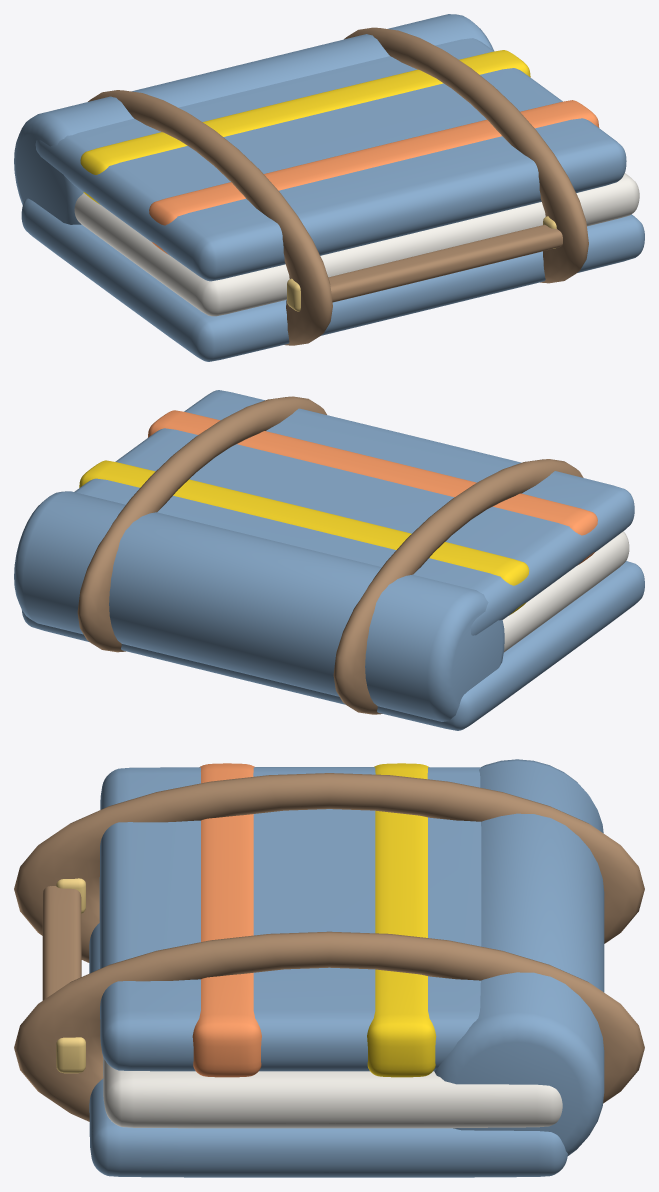
The model's file is SM_Blanket.fbx.
3 renders of one model, top to bottom at view 1: azimuth 30°, elevation 25°; view 2: azimuth 150°, elevation 25°; view 3: azimuth 270°, elevation 25°, orthographic. The views are drawn at different scales.
Visible parts, largest first — view 1: SM_Blanket; view 2: SM_Blanket; view 3: SM_Blanket.
Boxes of the visible parts, x1,y1,x2,y2 form: SM_Blanket: [14, 14, 644, 361]; SM_Blanket: [14, 390, 644, 730]; SM_Blanket: [14, 759, 644, 1177].
Size of the model in its own units: 50.58 by 19.32 by 48.3.
